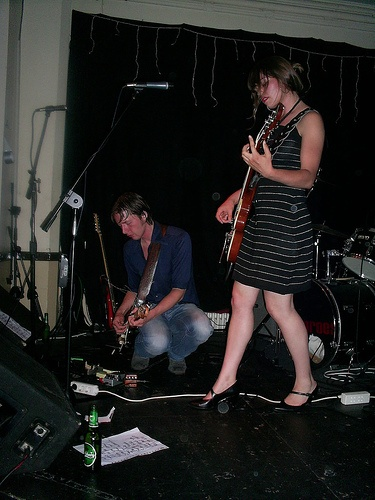head: (249, 56, 305, 110), (104, 192, 160, 246)
person: (194, 58, 328, 406), (111, 189, 212, 376)
